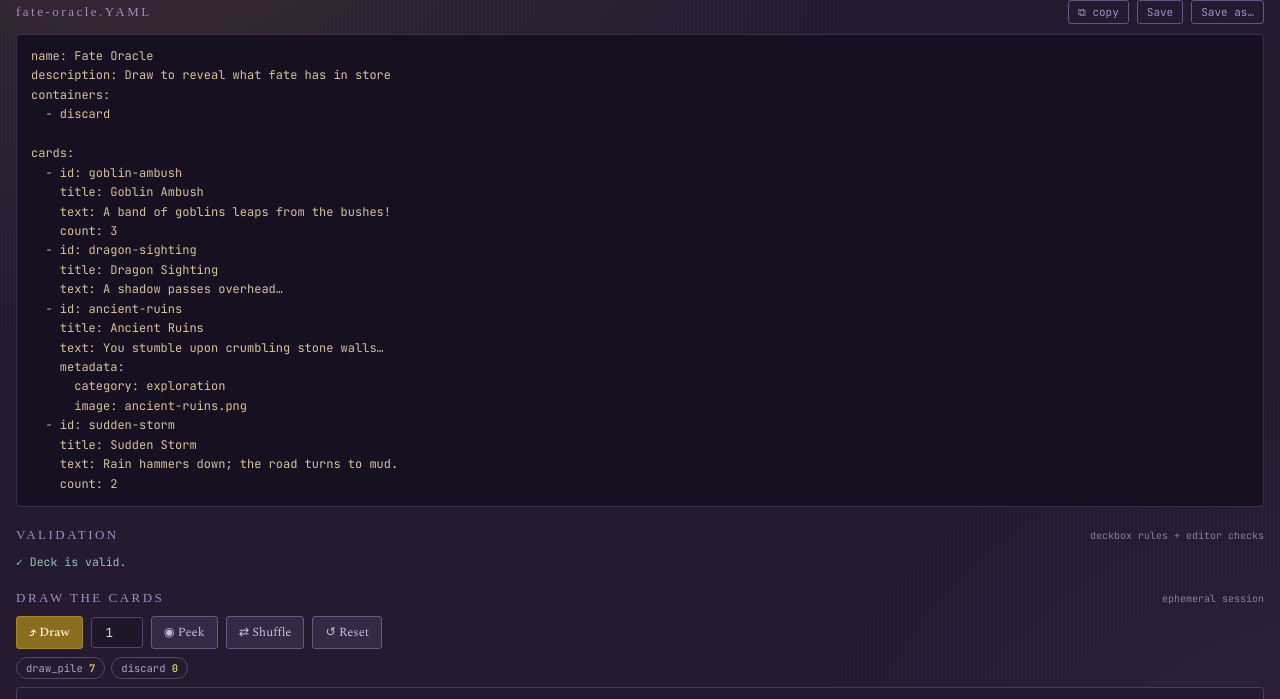
it: DRAW THE CARDS validation guard › surfaces an engine error in the output area instead of crashing when newSession throws
The width and height of the screenshot is (1280, 699).
What coordinates should you click on to do the following:
click the button "⤴ Draw"
I would click on:
 (49, 633)
Its box is left=16, top=616, right=83, bottom=649.
(page scrolled)
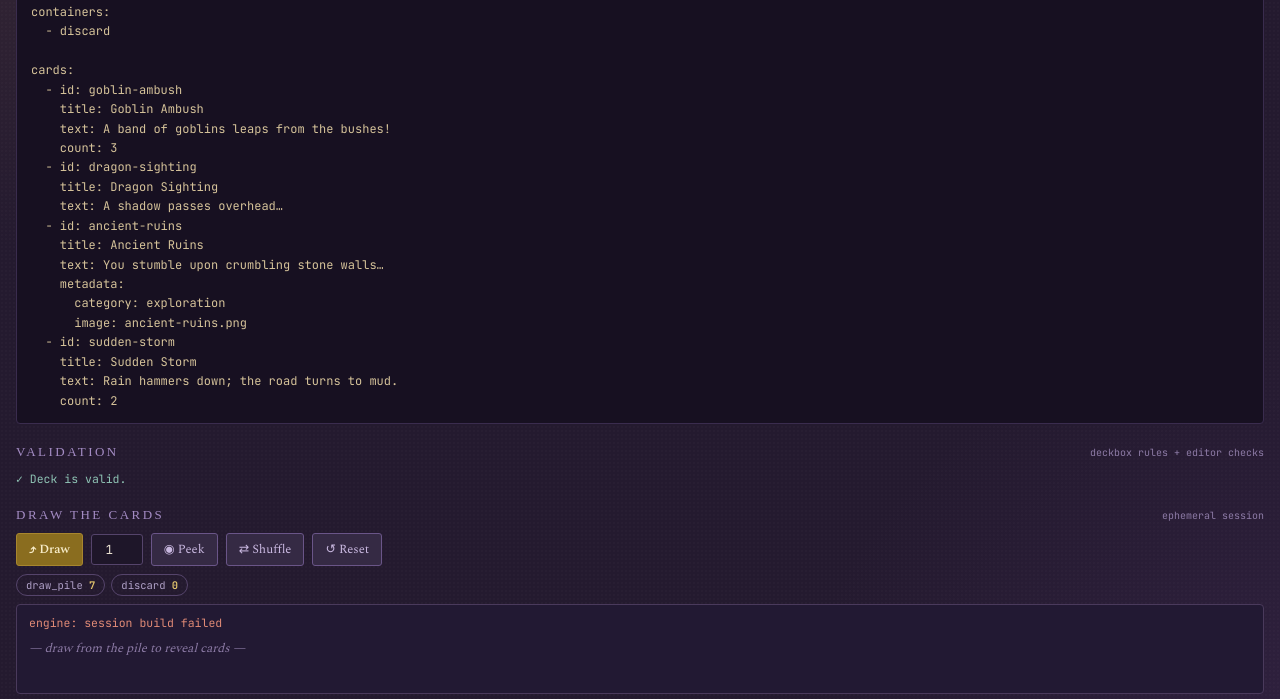
Expected: the text "engine: session build failed" is shown, left=29, top=615, right=222, bottom=630
